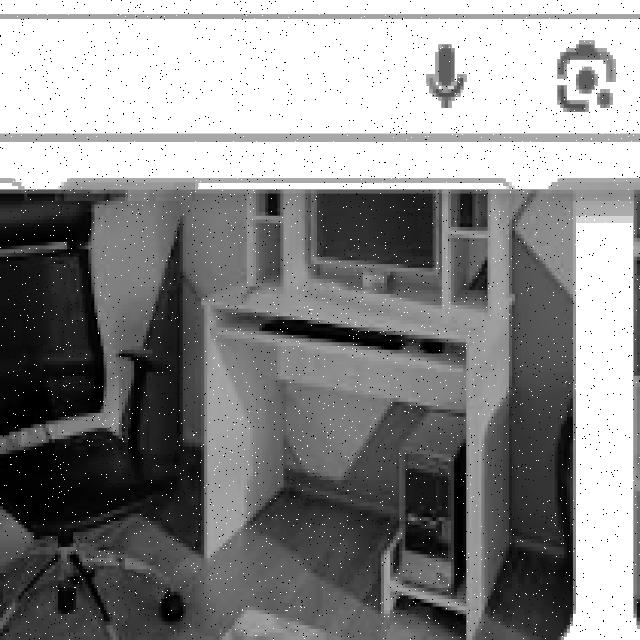book: (0, 186, 183, 640)
table: (191, 192, 528, 613)
